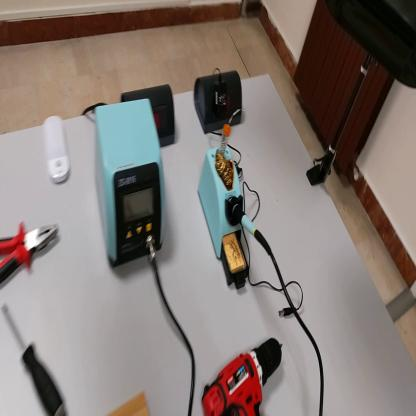electric screwdriver: (203, 338, 284, 416)
pliers: (2, 215, 60, 292)
screwdriver-: (5, 308, 68, 413)
socket: (193, 70, 247, 131), (136, 87, 179, 142)
welder base: (201, 144, 251, 292)
welder probe tip: (233, 208, 275, 257)
welder station: (92, 102, 165, 271)
